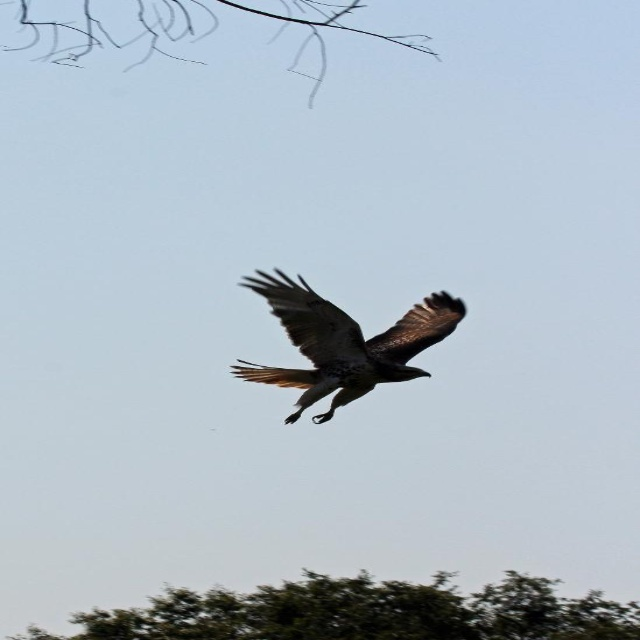Eagle: (221, 264, 474, 428)
